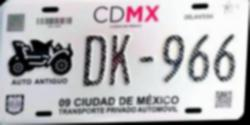License_Plate: (0, 0, 247, 123)
